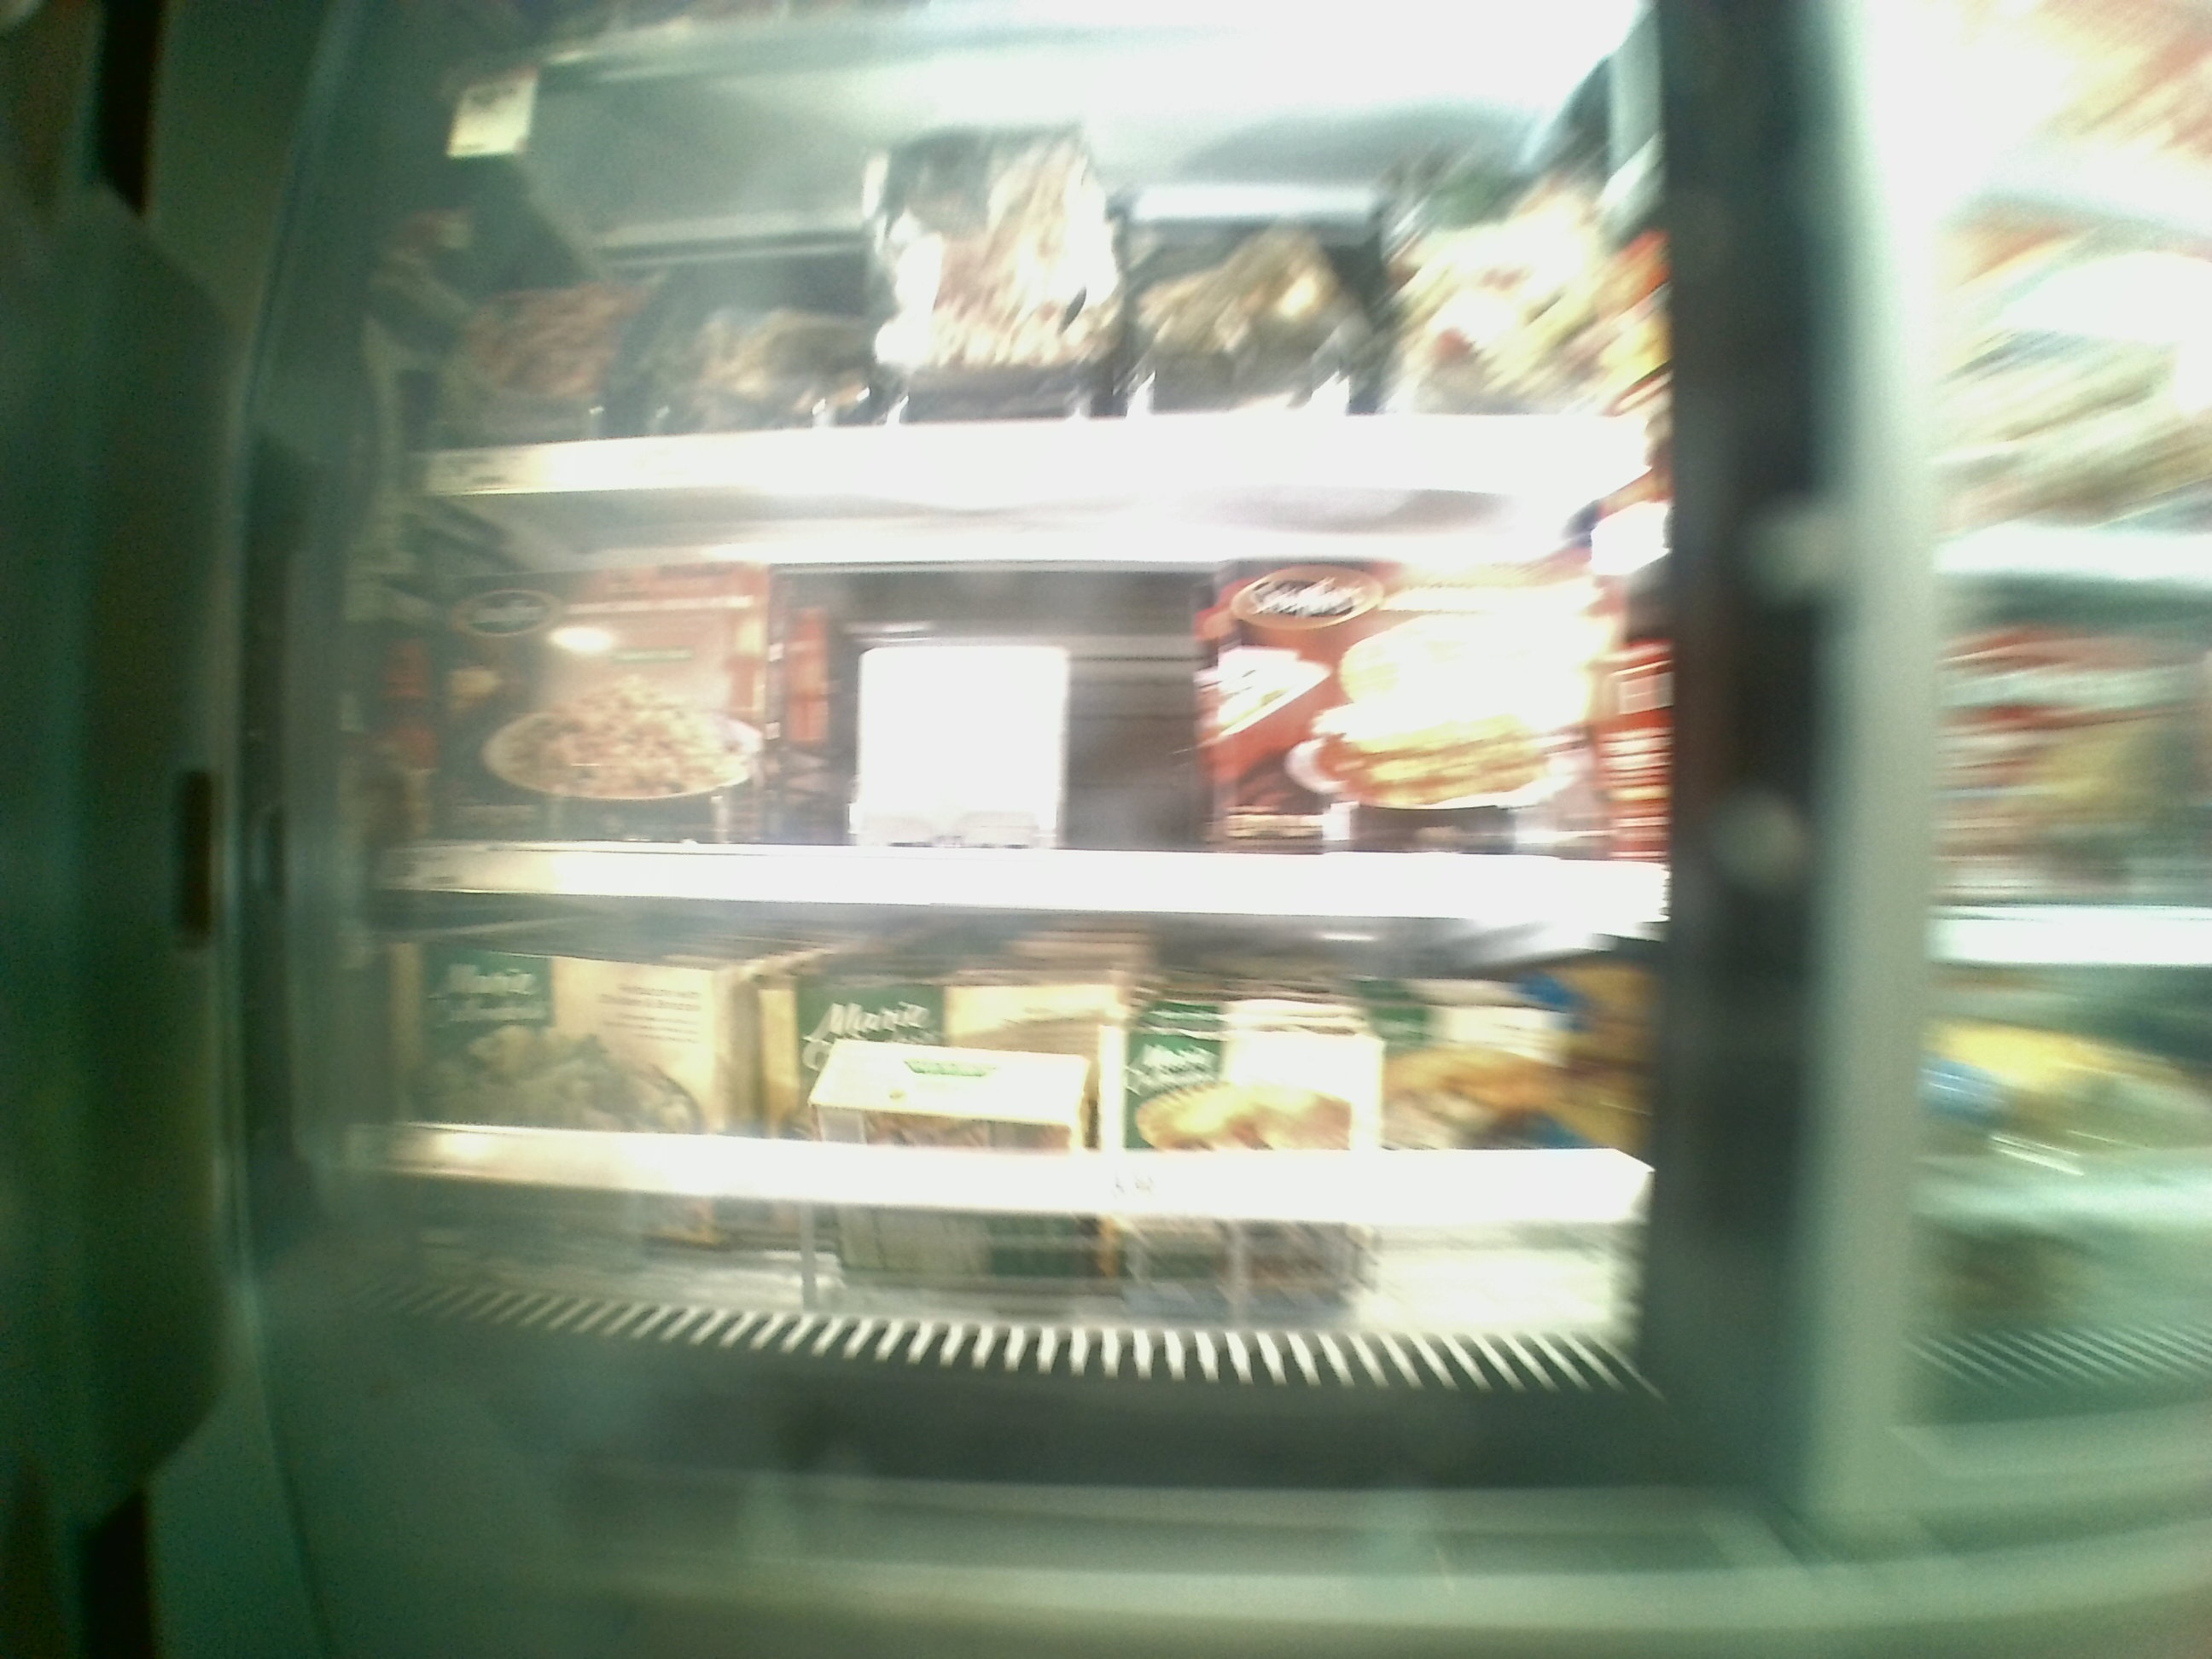shelf: (394, 908, 1635, 1344), (428, 70, 1648, 502), (387, 509, 1648, 910)
